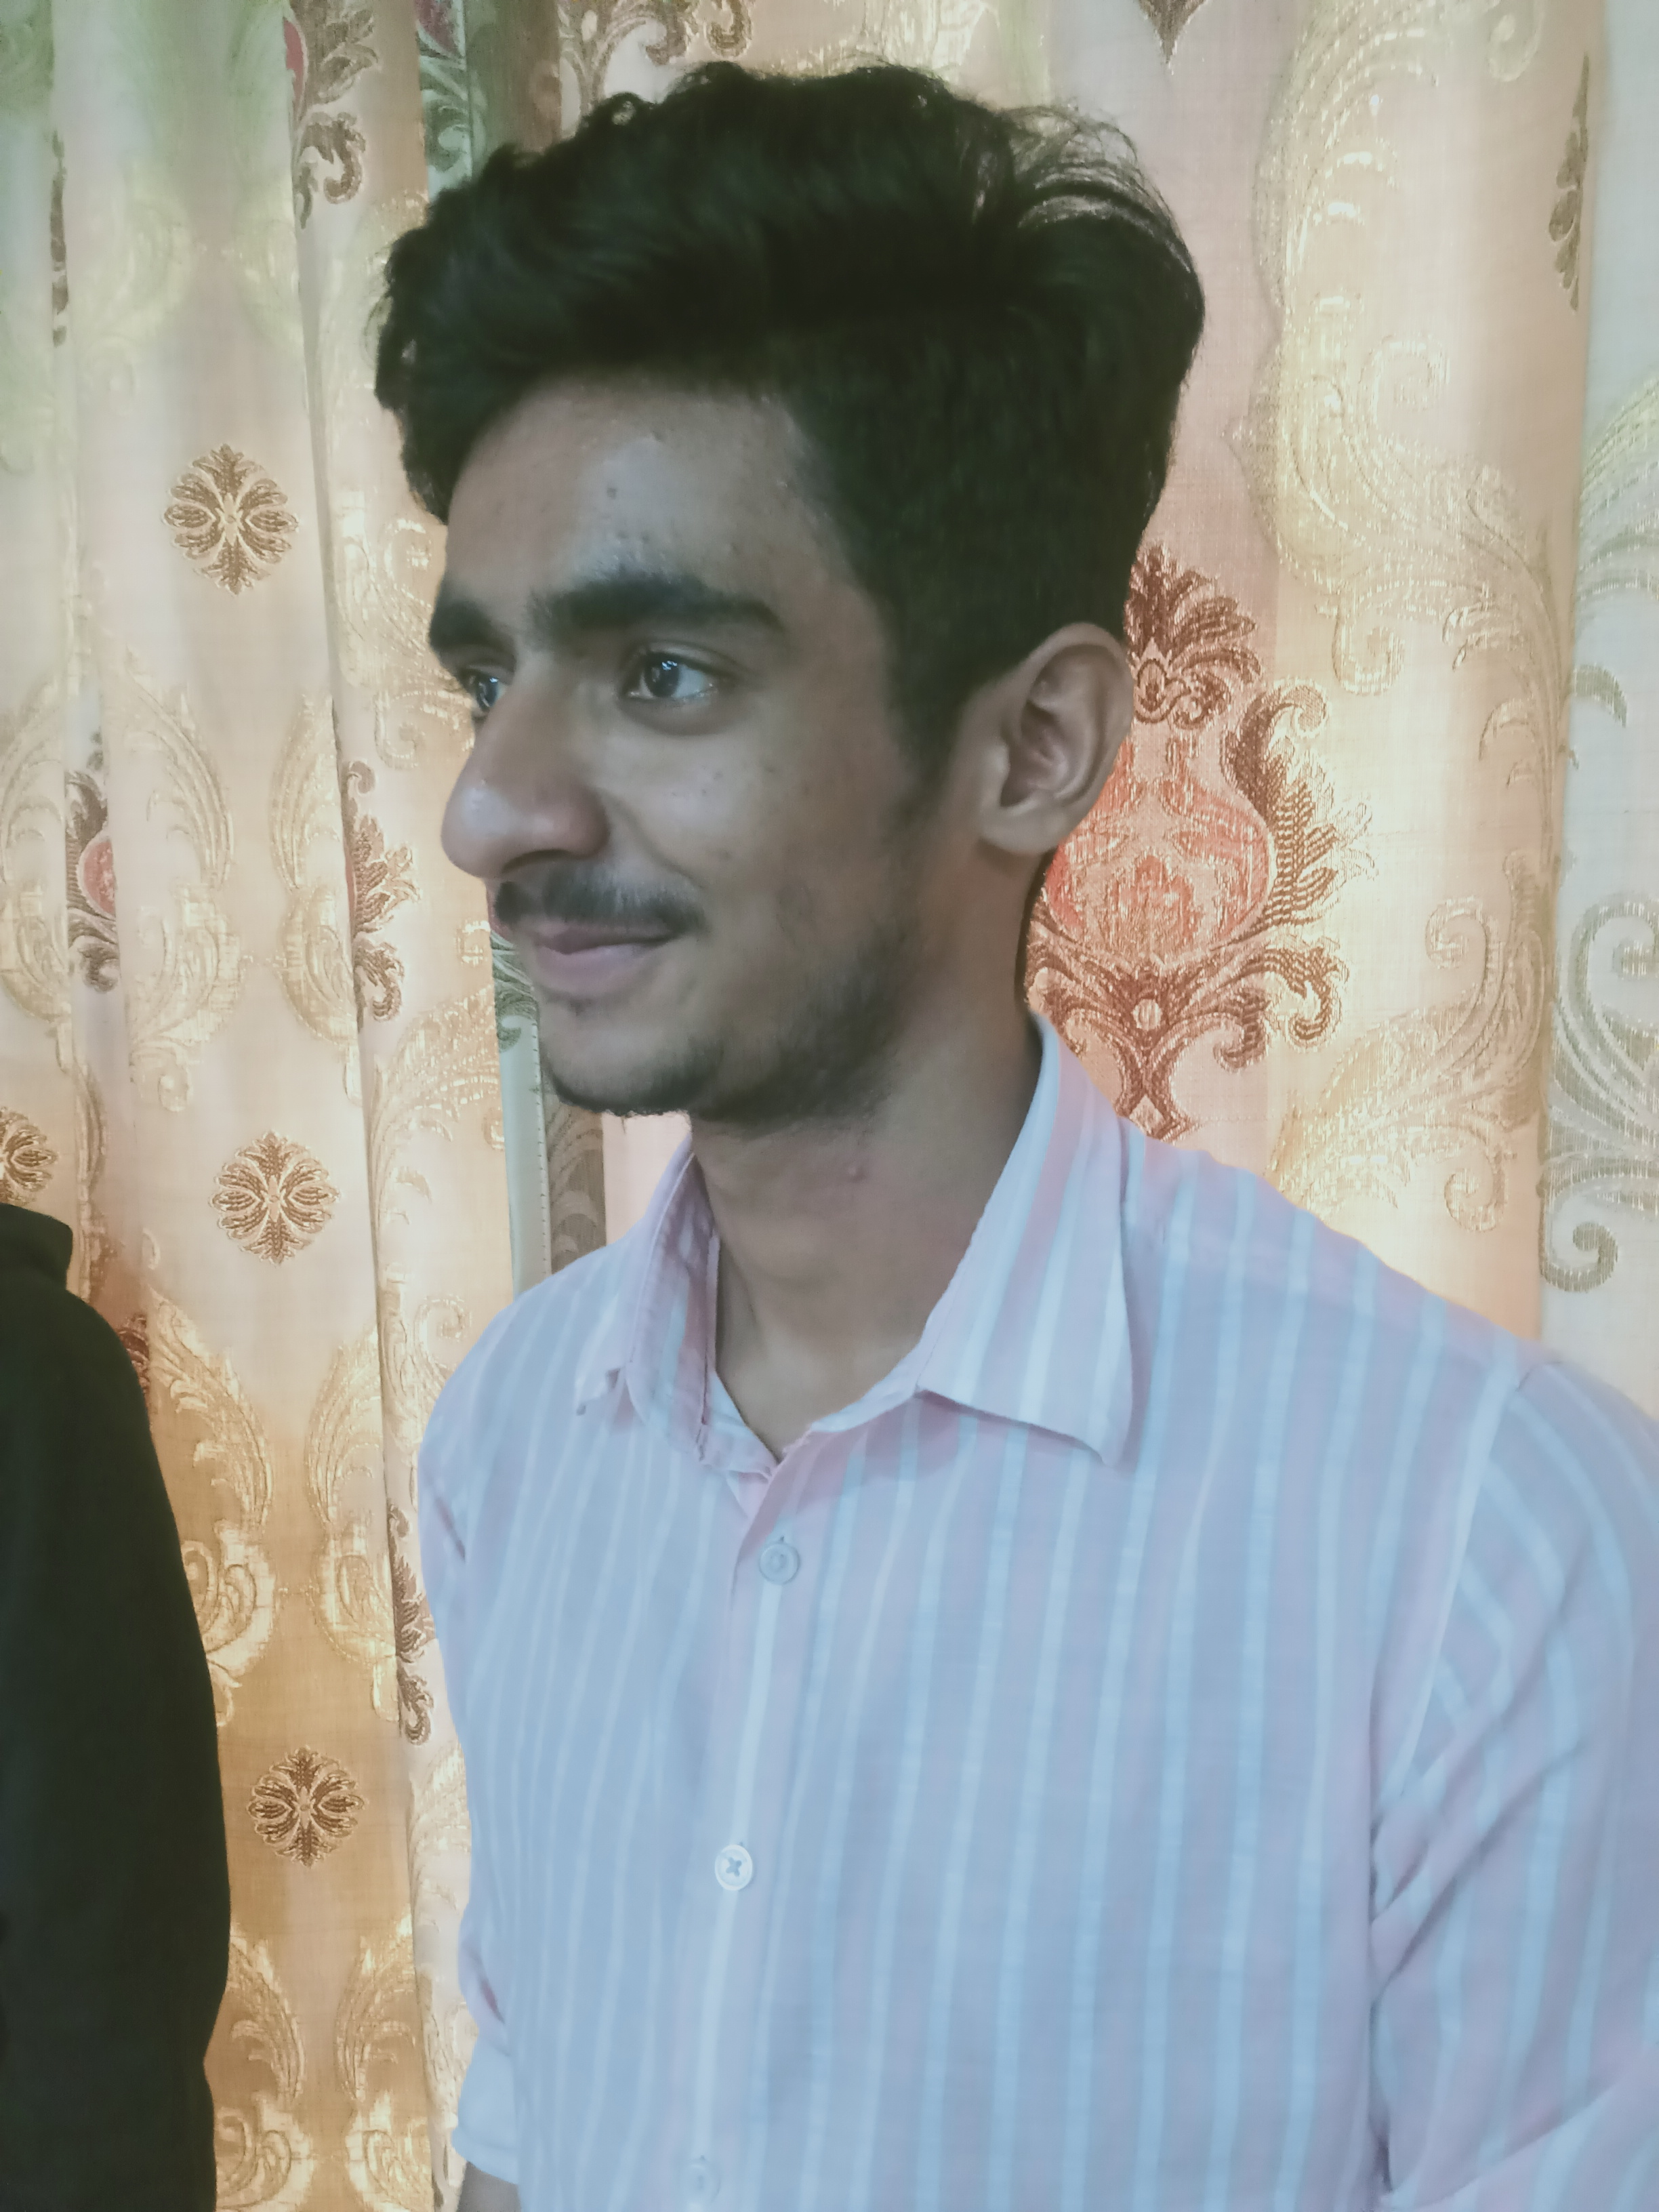NoMask: (436, 537, 867, 1130)
